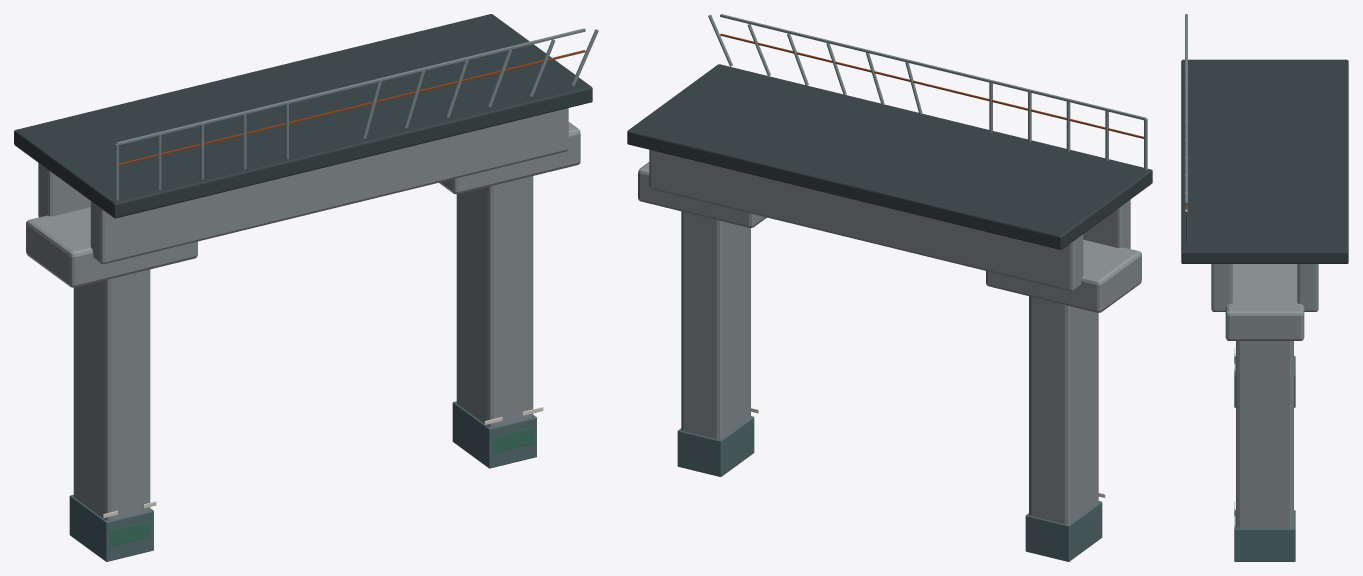
File: SM_FC01_Infrastructure_ViaductSpan_A.fbx
The picture shows the model from 3 angles, left to right: view 1: azimuth 30°, elevation 25°; view 2: azimuth 150°, elevation 25°; view 3: azimuth 270°, elevation 25°; orthographic projection. The views are drawn at different scales.
Visible parts, largest first — view 1: SM_FC01_Infrastructure_ViaductSpan_A_Deck, SM_FC01_Infrastructure_ViaductSpan_A_Girder_-0.85, SM_FC01_Infrastructure_ViaductSpan_A_Pier_-3.6, SM_FC01_Infrastructure_ViaductSpan_A_Pier_3.6, SM_FC01_Infrastructure_ViaductSpan_A_Cap_-3.6, SM_FC01_Infrastructure_ViaductSpan_A_-3.6_WetBand, SM_FC01_Infrastructure_ViaductSpan_A_3.6_WetBand, SM_FC01_Infrastructure_ViaductSpan_A_Cap_3.6, SM_FC01_Infrastructure_ViaductSpan_A_Rail_RailTop, SM_FC01_Infrastructure_ViaductSpan_A_Girder_0.85, SM_FC01_Infrastructure_ViaductSpan_A_Rail_RailMid; view 2: SM_FC01_Infrastructure_ViaductSpan_A_Deck, SM_FC01_Infrastructure_ViaductSpan_A_Girder_0.85, SM_FC01_Infrastructure_ViaductSpan_A_Pier_3.6, SM_FC01_Infrastructure_ViaductSpan_A_Pier_-3.6, SM_FC01_Infrastructure_ViaductSpan_A_Cap_-3.6, SM_FC01_Infrastructure_ViaductSpan_A_3.6_WetBand, SM_FC01_Infrastructure_ViaductSpan_A_-3.6_WetBand, SM_FC01_Infrastructure_ViaductSpan_A_Cap_3.6, SM_FC01_Infrastructure_ViaductSpan_A_Rail_RailTop, SM_FC01_Infrastructure_ViaductSpan_A_Girder_-0.85, SM_FC01_Infrastructure_ViaductSpan_A_Rail_RailMid; view 3: SM_FC01_Infrastructure_ViaductSpan_A_Deck, SM_FC01_Infrastructure_ViaductSpan_A_Pier_3.6, SM_FC01_Infrastructure_ViaductSpan_A_Cap_3.6, SM_FC01_Infrastructure_ViaductSpan_A_3.6_WetBand, SM_FC01_Infrastructure_ViaductSpan_A_Girder_-0.85, SM_FC01_Infrastructure_ViaductSpan_A_Girder_0.85, SM_FC01_Infrastructure_ViaductSpan_A_Rail_RailTop.
Boxes of the visible parts, box(x1,y1,x2,y2) form: SM_FC01_Infrastructure_ViaductSpan_A_Deck: box(14, 14, 592, 218); SM_FC01_Infrastructure_ViaductSpan_A_Girder_-0.85: box(90, 108, 568, 264); SM_FC01_Infrastructure_ViaductSpan_A_Pier_-3.6: box(73, 269, 150, 520); SM_FC01_Infrastructure_ViaductSpan_A_Pier_3.6: box(456, 176, 533, 427); SM_FC01_Infrastructure_ViaductSpan_A_Cap_-3.6: box(26, 207, 197, 287); SM_FC01_Infrastructure_ViaductSpan_A_-3.6_WetBand: box(69, 494, 153, 561); SM_FC01_Infrastructure_ViaductSpan_A_3.6_WetBand: box(452, 401, 536, 468); SM_FC01_Infrastructure_ViaductSpan_A_Cap_3.6: box(439, 122, 580, 194); SM_FC01_Infrastructure_ViaductSpan_A_Rail_RailTop: box(116, 28, 585, 145); SM_FC01_Infrastructure_ViaductSpan_A_Girder_0.85: box(38, 163, 90, 217); SM_FC01_Infrastructure_ViaductSpan_A_Rail_RailMid: box(119, 50, 585, 165); SM_FC01_Infrastructure_ViaductSpan_A_Deck: box(627, 64, 1152, 249); SM_FC01_Infrastructure_ViaductSpan_A_Girder_0.85: box(649, 149, 1083, 291); SM_FC01_Infrastructure_ViaductSpan_A_Pier_3.6: box(681, 211, 750, 439); SM_FC01_Infrastructure_ViaductSpan_A_Pier_-3.6: box(1029, 296, 1098, 524); SM_FC01_Infrastructure_ViaductSpan_A_Cap_-3.6: box(986, 239, 1141, 312); SM_FC01_Infrastructure_ViaductSpan_A_3.6_WetBand: box(677, 416, 754, 476); SM_FC01_Infrastructure_ViaductSpan_A_-3.6_WetBand: box(1025, 501, 1102, 561); SM_FC01_Infrastructure_ViaductSpan_A_Cap_3.6: box(638, 162, 766, 227); SM_FC01_Infrastructure_ViaductSpan_A_Rail_RailTop: box(720, 14, 1146, 120); SM_FC01_Infrastructure_ViaductSpan_A_Girder_-0.85: box(1083, 199, 1130, 248); SM_FC01_Infrastructure_ViaductSpan_A_Rail_RailMid: box(720, 33, 1143, 138); SM_FC01_Infrastructure_ViaductSpan_A_Deck: box(1181, 59, 1348, 263); SM_FC01_Infrastructure_ViaductSpan_A_Pier_3.6: box(1236, 341, 1293, 528); SM_FC01_Infrastructure_ViaductSpan_A_Cap_3.6: box(1225, 264, 1304, 340); SM_FC01_Infrastructure_ViaductSpan_A_3.6_WetBand: box(1234, 510, 1295, 561); SM_FC01_Infrastructure_ViaductSpan_A_Girder_-0.85: box(1211, 264, 1232, 311); SM_FC01_Infrastructure_ViaductSpan_A_Girder_0.85: box(1297, 264, 1318, 311); SM_FC01_Infrastructure_ViaductSpan_A_Rail_RailTop: box(1185, 14, 1187, 204).
Bounding box in the file's own units: 9.6 × 8 × 3.3.
